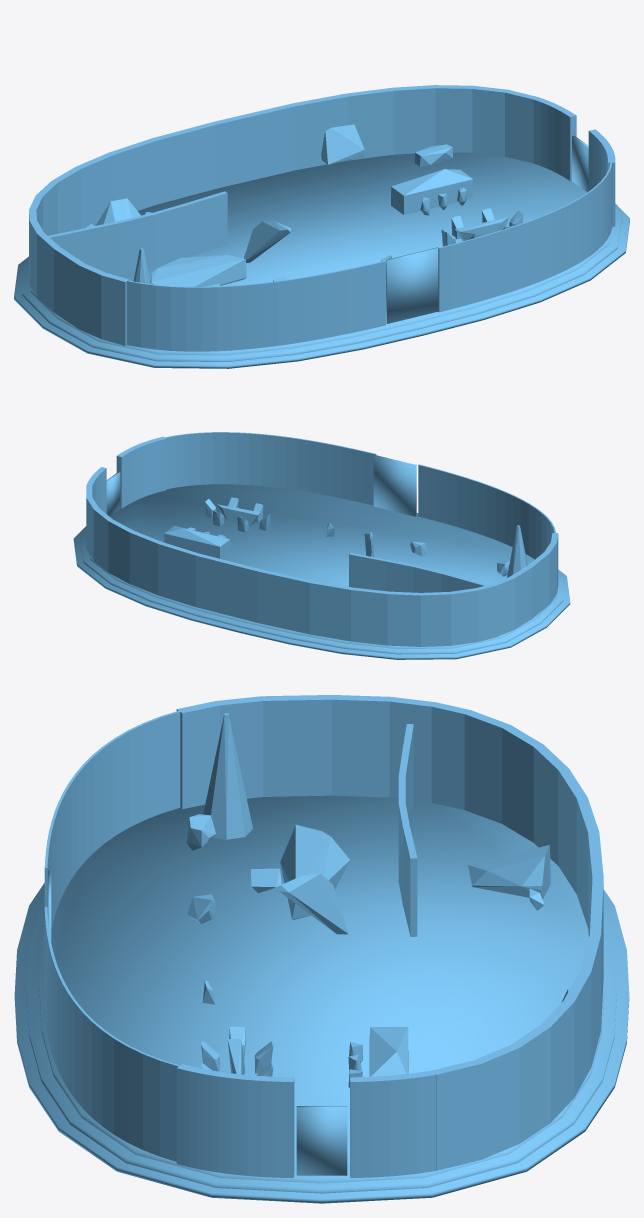
File: Nautilus_PHYS.dae
3 views of the same model, one above another, from view 1: azimuth 30°, elevation 25°; view 2: azimuth 150°, elevation 25°; view 3: azimuth 270°, elevation 25° (orthographic). The views are drawn at different scales.
Visible parts, largest first — view 1: Nautilus_Floor_PHYS, Nautilus_Wall_N_PHYS, Nautilus_Glass_S_PHYS, Nautilus_Partition_PHYS, Nautilus_Wall_W_PHYS, Nautilus_Wall_E_PHYS, Nautilus_Door_S_PHYS, Nautilus_Sofa_PHYS, Nautilus_Island_PHYS, Nautilus_Vanity_PHYS, Nautilus_Arc_Lamp_PHYS, Nautilus_Door_E_PHYS (+3 smaller); view 2: Nautilus_Floor_PHYS, Nautilus_Wall_N_PHYS, Nautilus_Glass_S_PHYS, Nautilus_Wall_W_PHYS, Nautilus_Partition_PHYS, Nautilus_Wall_E_PHYS, Nautilus_Door_S_PHYS, Nautilus_Island_PHYS, Nautilus_Fireplace_PHYS, Nautilus_Door_E_PHYS, Nautilus_Dining_Table_PHYS; view 3: Nautilus_Floor_PHYS, Nautilus_Wall_N_PHYS, Nautilus_Glass_S_PHYS, Nautilus_Wall_W_PHYS, Nautilus_Wall_E_PHYS, Nautilus_Door_E_PHYS, Nautilus_Fireplace_PHYS, Nautilus_Partition_PHYS, Nautilus_Bed_PHYS, Nautilus_Sofa_PHYS, Nautilus_Arc_Lamp_PHYS, Nautilus_Island_PHYS (+1 smaller).
Part boxes in pixels (<box>): Nautilus_Floor_PHYS: <box>14,152,629,368</box>; Nautilus_Wall_N_PHYS: <box>29,85,537,282</box>; Nautilus_Glass_S_PHYS: <box>127,162,612,351</box>; Nautilus_Partition_PHYS: <box>48,191,227,275</box>; Nautilus_Wall_W_PHYS: <box>29,221,128,345</box>; Nautilus_Wall_E_PHYS: <box>533,97,615,226</box>; Nautilus_Door_S_PHYS: <box>386,247,438,323</box>; Nautilus_Sofa_PHYS: <box>150,255,246,286</box>; Nautilus_Island_PHYS: <box>391,169,472,214</box>; Nautilus_Vanity_PHYS: <box>321,124,364,164</box>; Nautilus_Arc_Lamp_PHYS: <box>244,221,291,262</box>; Nautilus_Door_E_PHYS: <box>572,135,588,192</box>; Nautilus_Floor_PHYS: <box>73,484,570,659</box>; Nautilus_Wall_N_PHYS: <box>86,485,496,646</box>; Nautilus_Glass_S_PHYS: <box>165,432,555,559</box>; Nautilus_Wall_W_PHYS: <box>493,533,558,636</box>; Nautilus_Partition_PHYS: <box>349,553,486,592</box>; Nautilus_Wall_E_PHYS: <box>86,436,166,513</box>; Nautilus_Door_S_PHYS: <box>373,455,416,516</box>; Nautilus_Island_PHYS: <box>164,525,230,559</box>; Nautilus_Fireplace_PHYS: <box>507,525,527,577</box>; Nautilus_Door_E_PHYS: <box>106,472,120,516</box>; Nautilus_Dining_Table_PHYS: <box>217,504,260,526</box>; Nautilus_Floor_PHYS: <box>14,795,629,1203</box>; Nautilus_Wall_N_PHYS: <box>431,702,603,1170</box>; Nautilus_Glass_S_PHYS: <box>44,710,180,1161</box>; Nautilus_Wall_W_PHYS: <box>176,695,435,809</box>; Nautilus_Wall_E_PHYS: <box>176,1064,435,1177</box>; Nautilus_Door_E_PHYS: <box>296,1106,347,1175</box>; Nautilus_Fireplace_PHYS: <box>203,713,252,840</box>; Nautilus_Partition_PHYS: <box>398,724,417,936</box>; Nautilus_Bed_PHYS: <box>468,845,550,899</box>; Nautilus_Sofa_PHYS: <box>280,824,349,920</box>; Nautilus_Arc_Lamp_PHYS: <box>279,873,348,934</box>; Nautilus_Island_PHYS: <box>369,1027,408,1076</box>.
Size of the model in its own units: 27.44 by 17.44 by 4.94.
